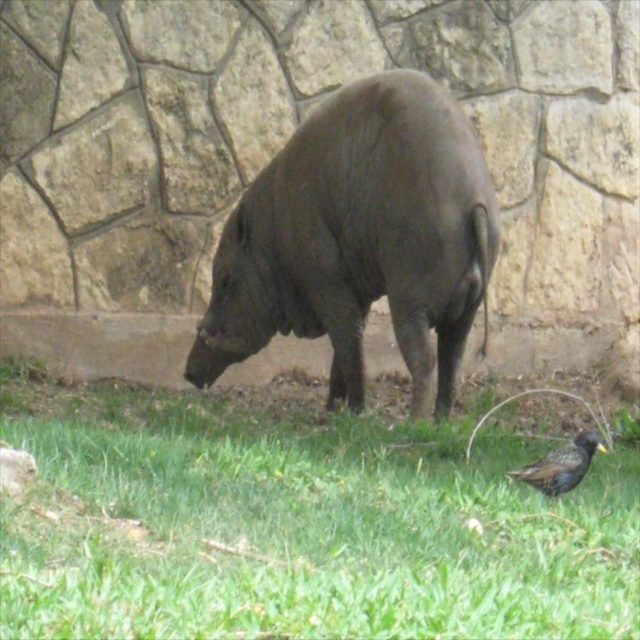Pig: (183, 70, 501, 425)
